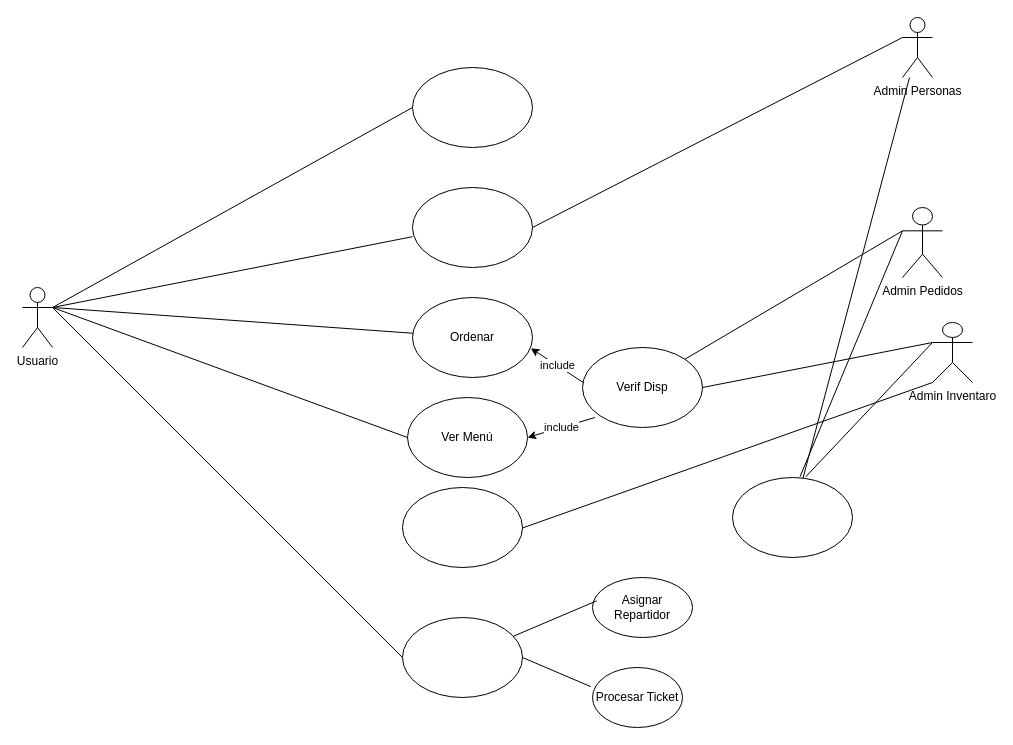
The diagram is 1013 pixels wide and 745 high, and some of its shapes have lost their labels. The centre of each missing label's shape, as x and y in pixels:
Consultar y act Inventario: point (462, 527)
Guardar Datos: point (792, 517)
Inicio de sesion: point (472, 107)
Realizar Pago: point (462, 657)
Registrar Usuario: point (472, 227)
